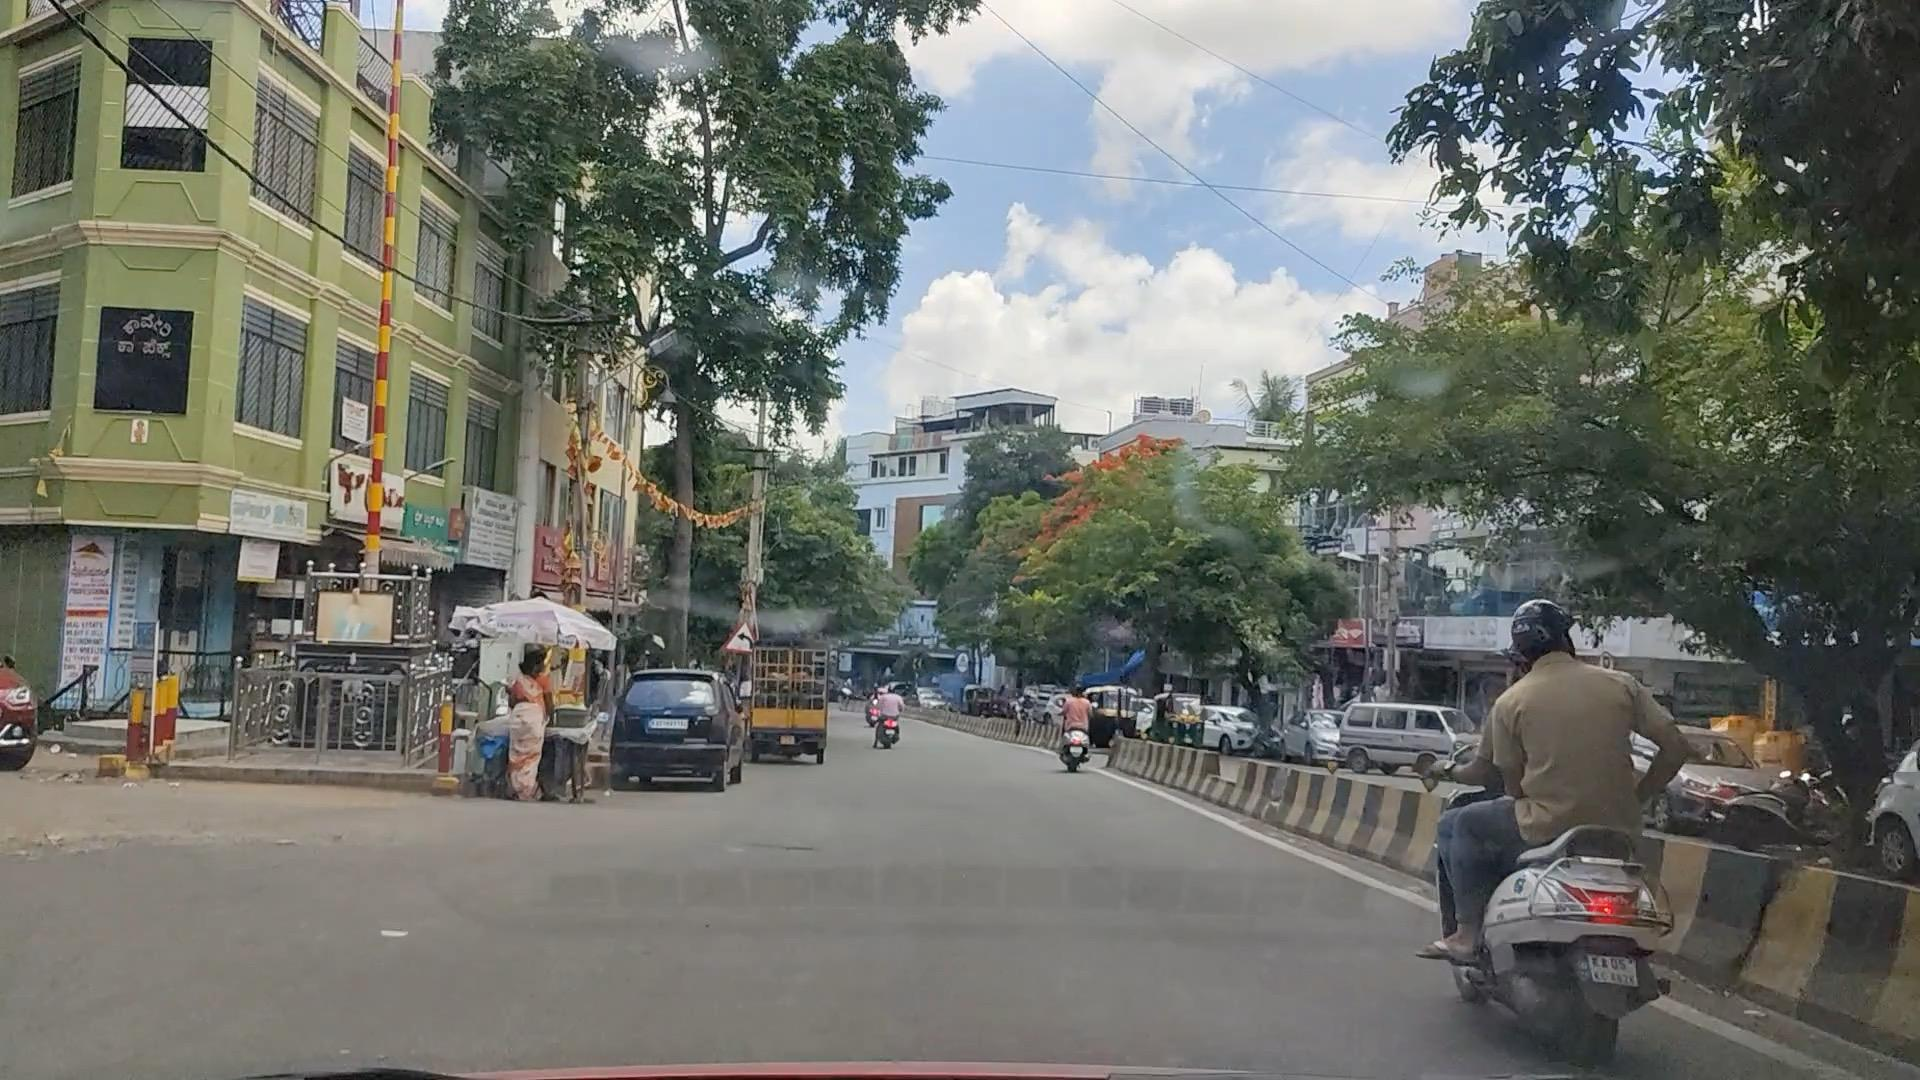LMV: (1449, 620, 1684, 1062), (618, 663, 733, 789)
